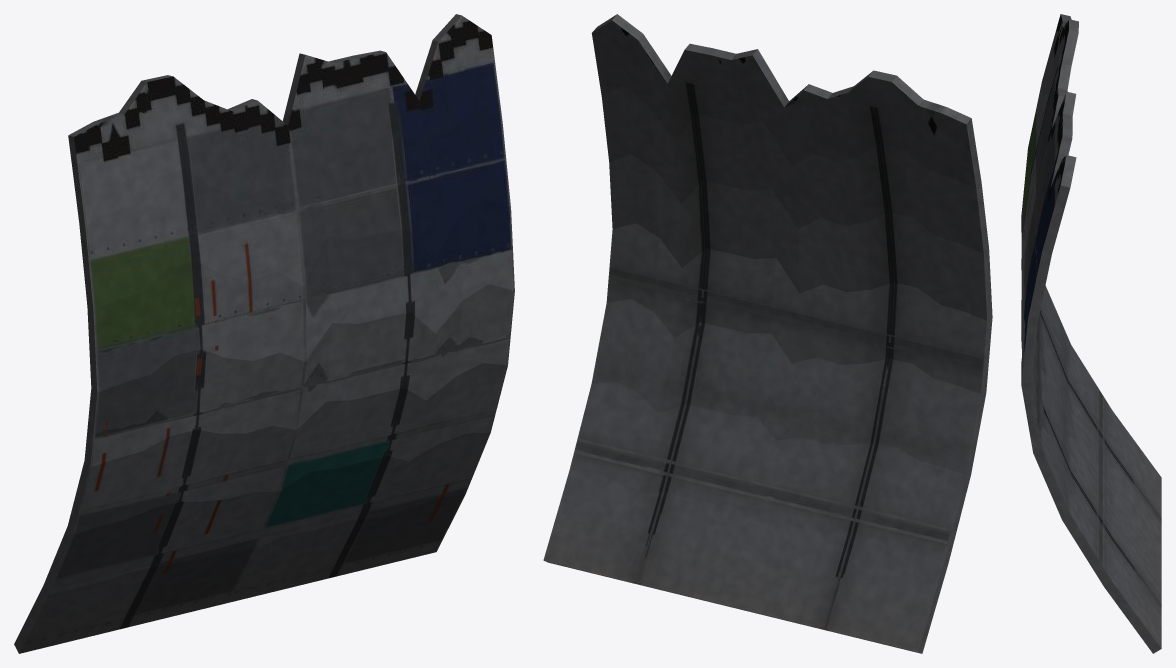
The model's file is hull_shell.glb.
3 views of the same model, side by side, from view 1: azimuth 30°, elevation 25°; view 2: azimuth 150°, elevation 25°; view 3: azimuth 270°, elevation 25° (orthographic). The views are drawn at different scales.
Visible parts, largest first — view 1: hull_shell; view 2: hull_shell; view 3: hull_shell.
Boxes of the visible parts, x1,y1,x2,y2 form: hull_shell: (14, 14, 514, 653); hull_shell: (543, 14, 992, 653); hull_shell: (1021, 14, 1161, 653).
Bounding box in the file's own units: 8.01 × 10.79 × 2.77.
1 material, 1 textured.
